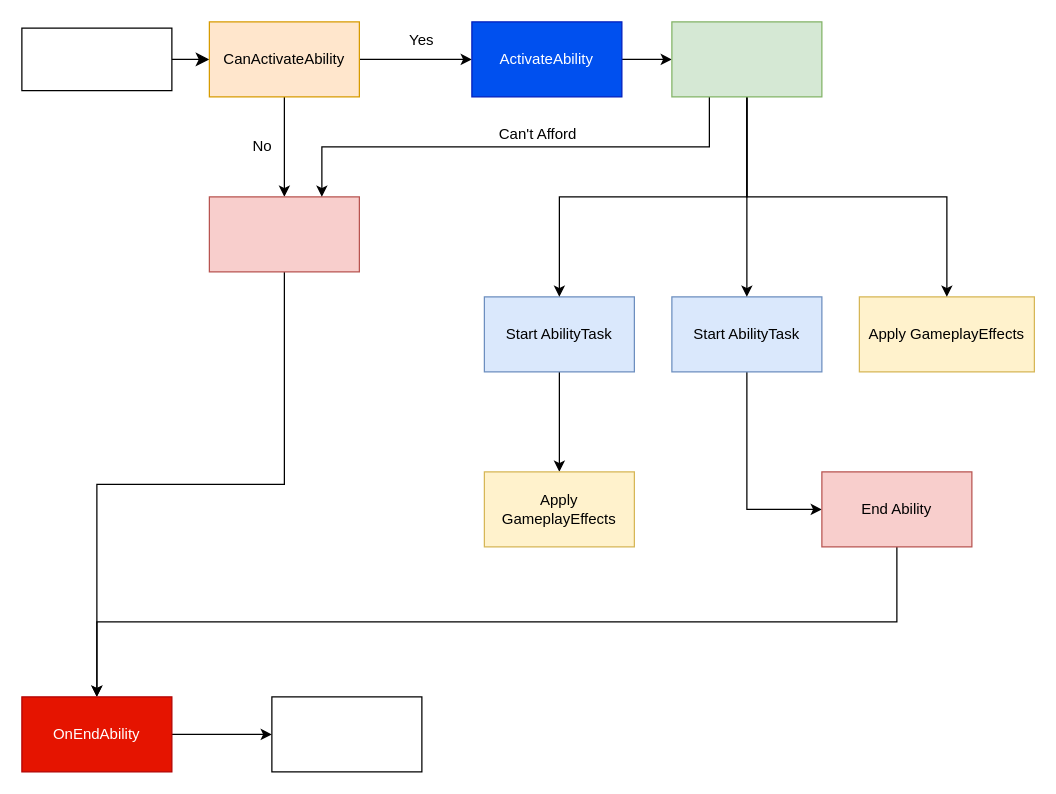
This 1056x794 diagram has some shape labels left out. Here are the shapes that lost their labels. From the top down, the centre of each, then its label:
At point (96, 59): "TryActivateAbility".
At point (746, 59): "CommitAbility".
At point (283, 234): "EndAbility".
At point (346, 734): "Cleanup".
